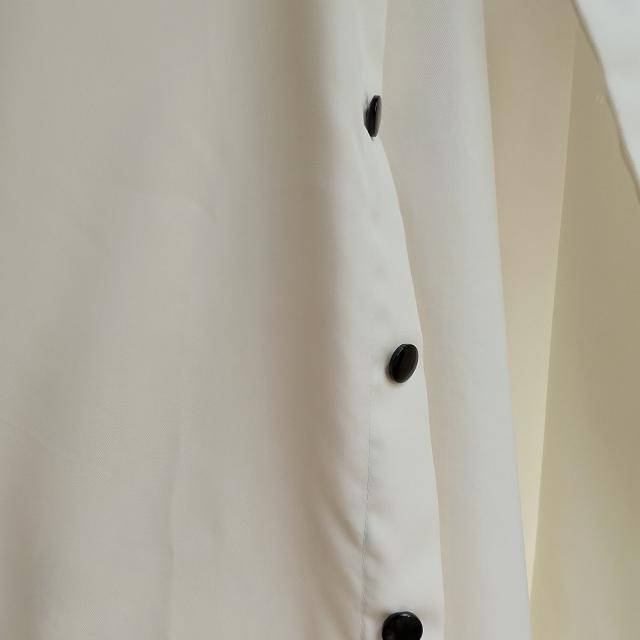education_male_uniform: (183, 0, 606, 640)
